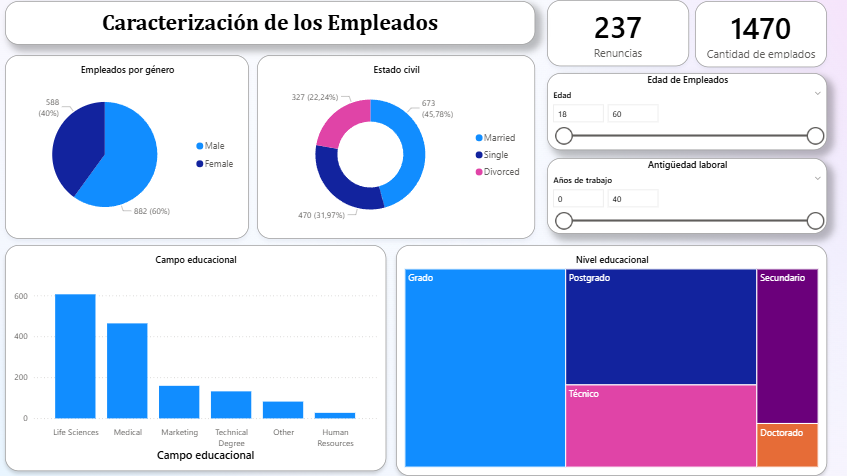

The page's visual inventory and layout, read from the dashboard file:
{"tool":"powerbi","page":{"name":"Caracterizacíon","canvas":[1280,720],"ordinal":0},"visuals":[{"type":"pieChart","title":"Empleados por género","fields":{"Category":["HR-Employee.Gender"],"Y":["Sum(HR-Employee.EmployeeCount)"]},"box":[13.2,95.1,357.1,269.3],"z":0},{"type":"clusteredColumnChart","title":"Campo educacional","fields":{"Category":["HR-Employee.EducationField"],"Y":["Sum(HR-Employee.EmployeeCount)"]},"box":[13.2,373.2,557.6,330.7],"z":1000},{"type":"treemap","title":"Nivel educacional","fields":{"Group":["HR-Employee.Education"],"Values":["Sum(HR-Employee.EmployeeCount)"]},"box":[585.4,373.2,630.7,338],"z":2000},{"type":"donutChart","title":"Estado civil","fields":{"Category":["HR-Employee.MaritalStatus"],"Y":["Sum(HR-Employee.EmployeeCount)"]},"box":[382,95.1,406.8,269.3],"z":3000},{"type":"card","fields":{"Values":["Sum(HR-Employee.EmployeeCount)"]},"box":[1022.9,16.1,193.2,96.6],"z":4000},{"type":"card","fields":{"Values":["CountNonNull(HR-Employee.Attrition)"]},"box":[806.3,14.6,207.8,96.6],"z":5000},{"type":"slicer","title":"Edad de Empleados","fields":{"Values":["HR-Employee.Age"]},"box":[806.3,121.5,409.8,112.7],"z":6000},{"type":"slicer","title":"Antigüedad laboral","fields":{"Values":["HR-Employee.TotalWorkingYears"]},"box":[806.3,245.9,409.8,111.2],"z":7000},{"type":"textbox","box":[13.2,16.1,775.6,64.4],"z":8000}]}

Visuals, with their boxes in screenshot pixels (x1, y1, x2, y2), scaled from the page's 1280x720 canvas onto the 847x476 screenshot:
"Empleados por género" pieChart: rect(9, 63, 245, 241)
"Campo educacional" clusteredColumnChart: rect(9, 247, 378, 465)
"Nivel educacional" treemap: rect(387, 247, 805, 470)
"Estado civil" donutChart: rect(253, 63, 522, 241)
card - Sum(HR-Employee.EmployeeCount): rect(677, 11, 805, 75)
card - CountNonNull(HR-Employee.Attrition): rect(534, 10, 671, 74)
"Edad de Empleados" slicer: rect(534, 80, 805, 155)
"Antigüedad laboral" slicer: rect(534, 163, 805, 236)
textbox: rect(9, 11, 522, 53)
